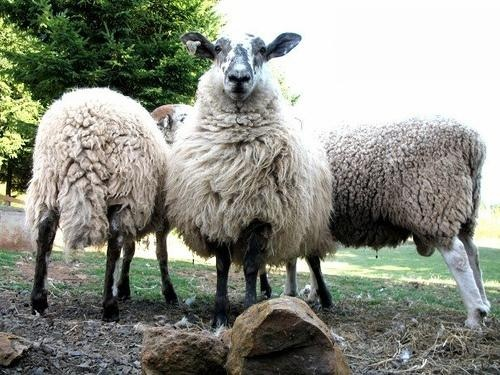sheep: (164, 29, 334, 309), (31, 88, 189, 317), (327, 117, 488, 331)
